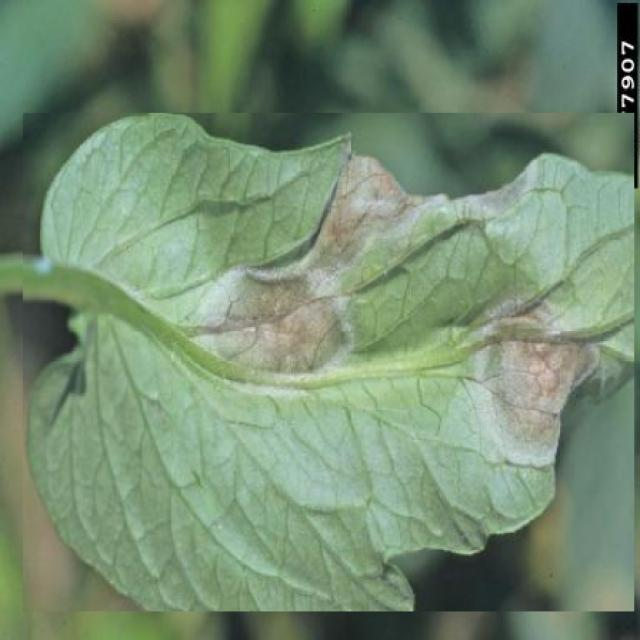Late Blight: (22, 113, 634, 611)
